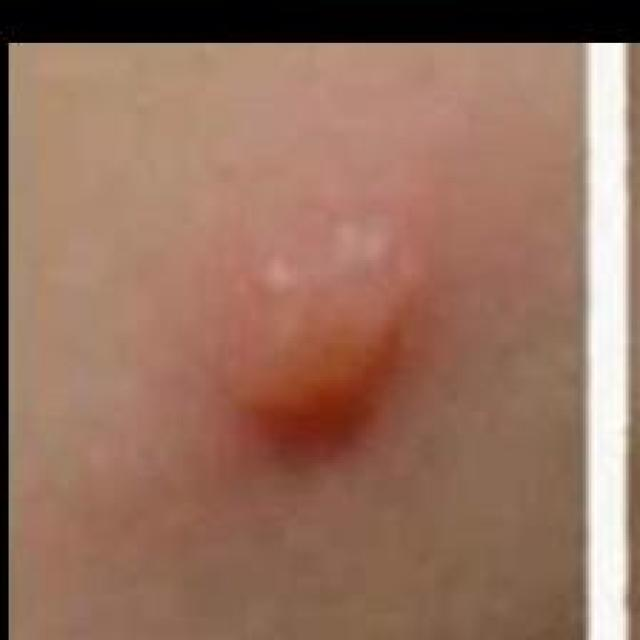others: (15, 69, 612, 640)
